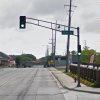Traffic light: (16, 11, 29, 36)
